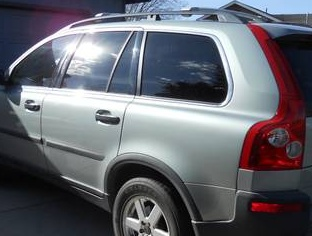volvo: (1, 8, 312, 235)
